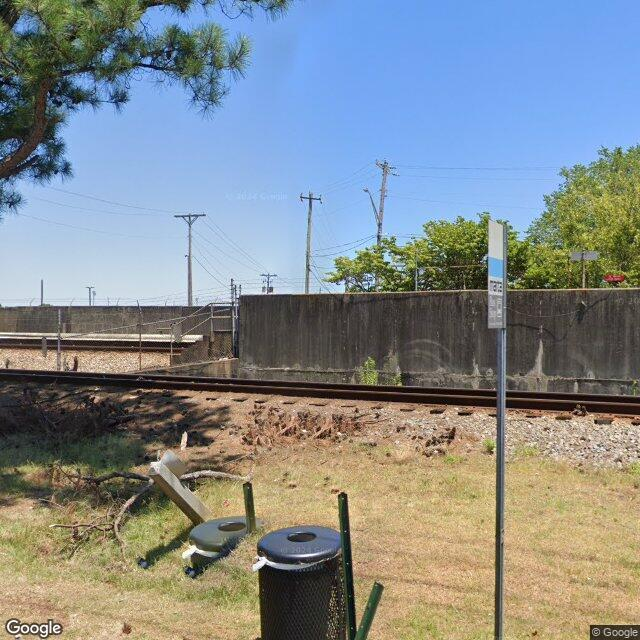trash_can: (256, 526, 341, 640)
